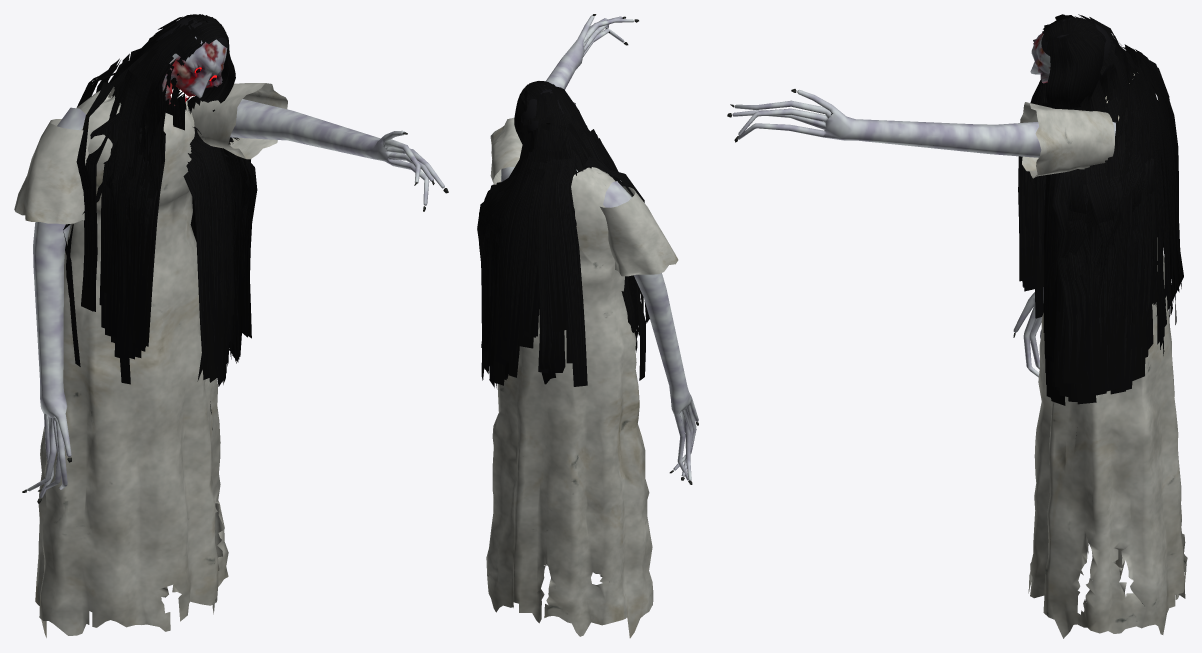
The model's file is Ma_Tay.fbx.
3 views of the same model, side by side, from view 1: azimuth 30°, elevation 25°; view 2: azimuth 150°, elevation 25°; view 3: azimuth 270°, elevation 25° (orthographic). The views are drawn at different scales.
Parts seen in each view (by area): view 1: Vay, Toc, Than, TayAo_R, TayAo_L, MatMa; view 2: Vay, Toc, Than, TayAo_R, TayAo_L, DaDau; view 3: Toc, Vay, Than, TayAo_L.
Part boxes in pixels (x1,y1,x2,y2): Vay: (35,86,228,637); Toc: (63,14,257,386); Than: (27,99,444,497); TayAo_R: (14,119,93,224); TayAo_L: (191,83,287,159); MatMa: (162,36,227,105); Vay: (486,167,653,638); Toc: (477,81,649,387); Than: (501,15,698,480); TayAo_R: (600,186,678,276); TayAo_L: (490,117,522,184); DaDau: (521,84,563,137); Toc: (1018,14,1183,405); Vay: (1028,72,1187,638); Than: (732,90,1115,377); TayAo_L: (1020,102,1114,178).
Size of the model in its own units: 0.8689 by 1.91 by 1.27.
